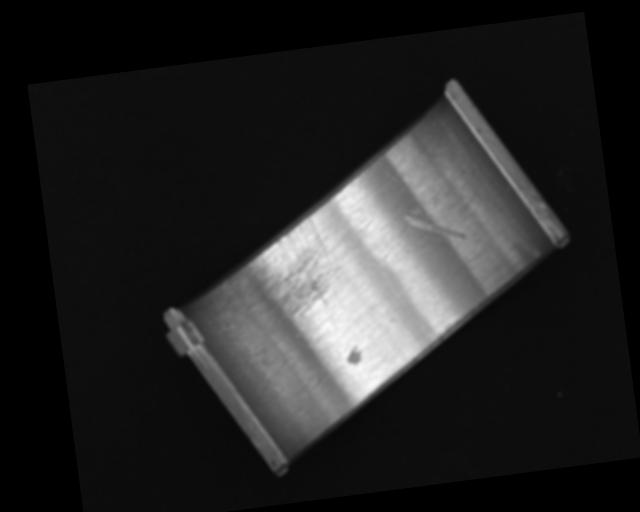bruise: (344, 344, 363, 367)
nick: (402, 201, 466, 247), (382, 167, 414, 244)
scratch: (218, 211, 350, 326)
